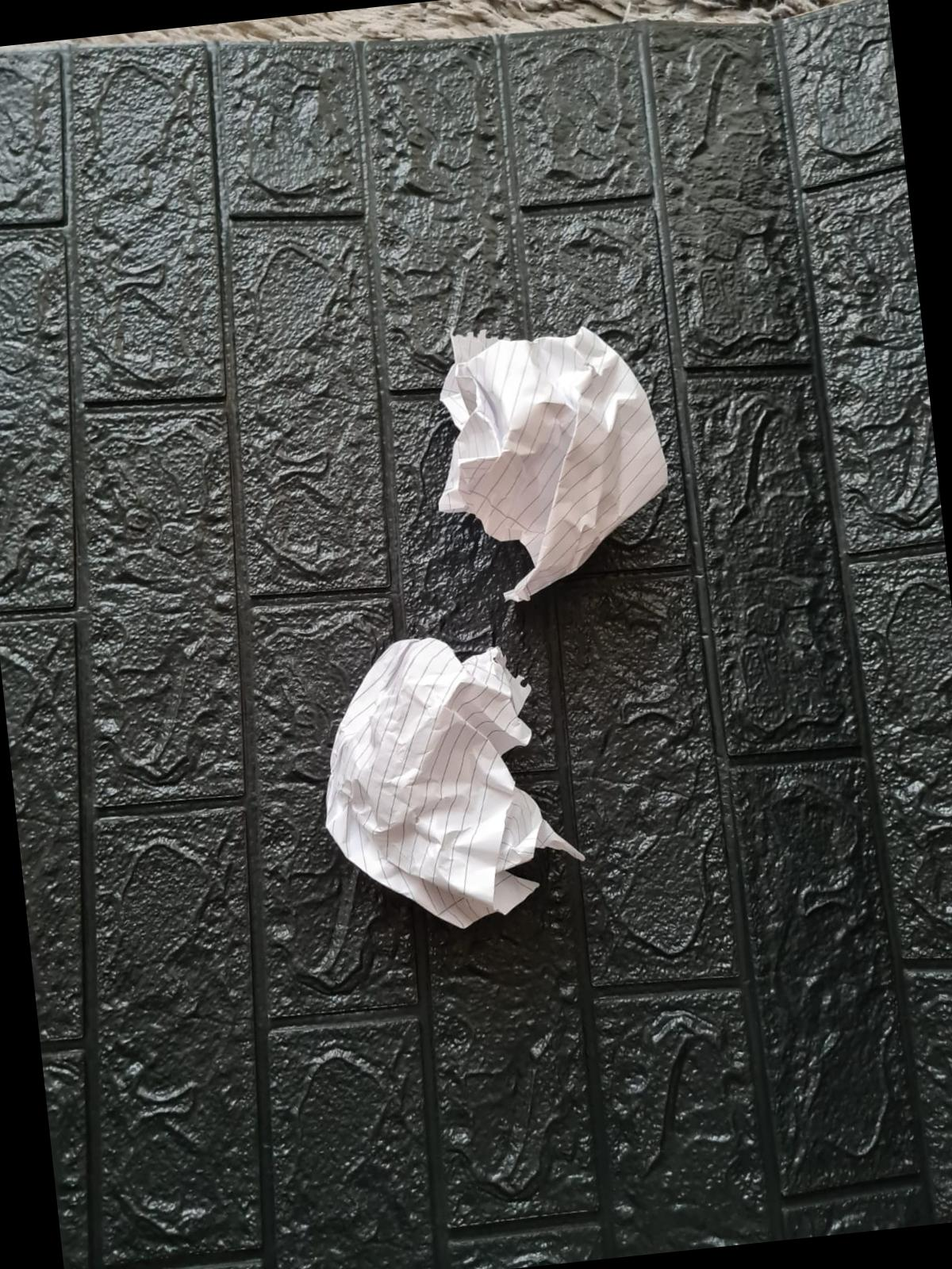Kertas: (326, 639, 581, 926), (439, 328, 666, 601)
